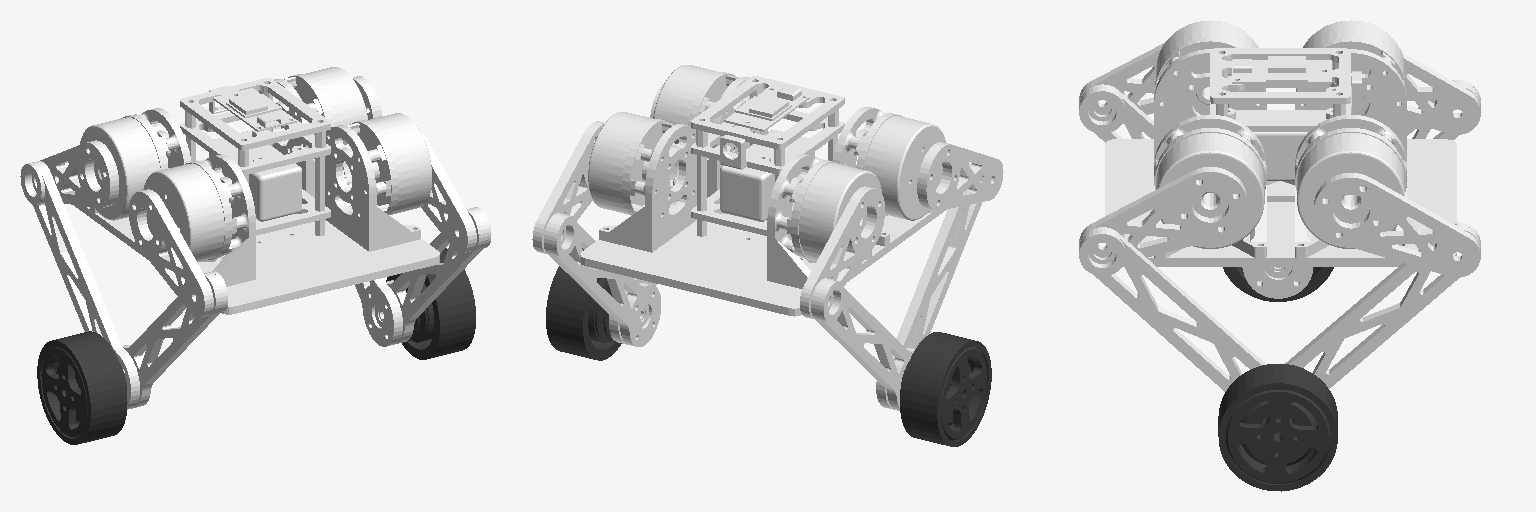
The robot description file, URDF, robot "Shuangzulun":
<?xml version="1.0" encoding="utf-8"?>
<!-- This URDF was automatically created by SolidWorks to URDF Exporter! Originally created by [author] ([email redacted]) 
     Commit Version: 1.6.0-4-g7f85cfe  Build Version: 1.6.7995.38578
     For more information, please see http://wiki.ros.org/sw_urdf_exporter -->
<robot
  name="Shuangzulun">
  <link
    name="base_link">
    <inertial>
      <origin
        xyz="-2.06685949717221E-06 0.0242691055965516 -3.19511749374861E-05"
        rpy="0 0 0" />
      <mass
        value="0.356780480322963" />
      <inertia
        ixx="0.00022945772142675"
        ixy="1.56227645579509E-09"
        ixz="1.10758177428464E-09"
        iyy="0.000289967073130902"
        iyz="5.54970300017836E-08"
        izz="0.000140635927790269" />
    </inertial>
    <visual>
      <origin
        xyz="0 0 0"
        rpy="0 0 0" />
      <geometry>
        <mesh
          filename="package://Shuangzulun/meshes/base_link.STL" />
      </geometry>
      <material
        name="">
        <color
          rgba="1 1 1 1" />
      </material>
    </visual>
    <collision>
      <origin
        xyz="0 0 0"
        rpy="0 0 0" />
      <geometry>
        <mesh
          filename="package://Shuangzulun/meshes/base_link.STL" />
      </geometry>
    </collision>
  </link>
  <link
    name="L_F_1">
    <inertial>
      <origin
        xyz="0.0200809690208486 0.00243813211080819 1.11022302462516E-16"
        rpy="0 0 0" />
      <mass
        value="0.0103010381319344" />
      <inertia
        ixx="7.46635077822692E-07"
        ixy="1.9067502731996E-08"
        ixz="4.76456032830544E-22"
        iyy="5.01527868596811E-06"
        iyz="1.24077091882954E-23"
        izz="4.31106087412847E-06" />
    </inertial>
    <visual>
      <origin
        xyz="0 0 0"
        rpy="0 0 0" />
      <geometry>
        <mesh
          filename="package://Shuangzulun/meshes/L_F_1.STL" />
      </geometry>
      <material
        name="">
        <color
          rgba="1 1 1 1" />
      </material>
    </visual>
    <collision>
      <origin
        xyz="0 0 0"
        rpy="0 0 0" />
      <geometry>
        <mesh
          filename="package://Shuangzulun/meshes/L_F_1.STL" />
      </geometry>
    </collision>
  </link>
  <joint
    name="L_F_1"
    type="continuous">
    <origin
      xyz="0.0665 -0.03 0.034"
      rpy="0 0.40283 -1.5708" />
    <parent
      link="base_link" />
    <child
      link="L_F_1" />
    <axis
      xyz="0 1 0" />
  </joint>
  <link
    name="L_F_2">
    <inertial>
      <origin
        xyz="0.0579756907615433 -0.00265632955087471 -1.1647088906247E-06"
        rpy="0 0 0" />
      <mass
        value="0.0152703665823153" />
      <inertia
        ixx="7.683764954588E-07"
        ixy="1.42961184690718E-08"
        ixz="1.17880192616912E-08"
        iyy="2.01064464712028E-05"
        iyz="4.16136337112369E-13"
        izz="1.94031525718367E-05" />
    </inertial>
    <visual>
      <origin
        xyz="0 0 0"
        rpy="0 0 0" />
      <geometry>
        <mesh
          filename="package://Shuangzulun/meshes/L_F_2.STL" />
      </geometry>
      <material
        name="">
        <color
          rgba="1 1 1 1" />
      </material>
    </visual>
    <collision>
      <origin
        xyz="0 0 0"
        rpy="0 0 0" />
      <geometry>
        <mesh
          filename="package://Shuangzulun/meshes/L_F_2.STL" />
      </geometry>
    </collision>
  </link>
  <joint
    name="L_F_2"
    type="continuous">
    <origin
      xyz="0.05 0.006 0"
      rpy="0 1.1791 3.1416" />
    <parent
      link="L_F_1" />
    <child
      link="L_F_2" />
    <axis
      xyz="0 1 0" />
  </joint>
  <link
    name="L_F_lun">
    <inertial>
      <origin
        xyz="-9.26299902122285E-06 0.0168802665650716 -1.04684400798541E-05"
        rpy="0 0 0" />
      <mass
        value="0.0382346146678116" />
      <inertia
        ixx="7.29689988825768E-06"
        ixy="-4.01191417658799E-10"
        ixz="-2.14386273828961E-09"
        iyy="1.22053148780522E-05"
        iyz="-4.53400492262894E-10"
        izz="7.29648214132153E-06" />
    </inertial>
    <visual>
      <origin
        xyz="0 0 0"
        rpy="0 0 0" />
      <geometry>
        <mesh
          filename="package://Shuangzulun/meshes/L_F_lun.STL" />
      </geometry>
      <material
        name="">
        <color
          rgba="0.298039215686275 0.298039215686275 0.298039215686275 1" />
      </material>
    </visual>
    <collision>
      <origin
        xyz="0 0 0"
        rpy="0 0 0" />
      <geometry>
        <mesh
          filename="package://Shuangzulun/meshes/L_F_lun.STL" />
      </geometry>
    </collision>
  </link>
  <joint
    name="L_F_lun"
    type="continuous">
    <origin
      xyz="0.105 -0.0055 0"
      rpy="0 0.18199 3.1416" />
    <parent
      link="L_F_2" />
    <child
      link="L_F_lun" />
    <axis
      xyz="0 1 0" />
  </joint>
  <link
    name="L_H_1">
    <inertial>
      <origin
        xyz="0.0200809690208485 -0.00256186788919183 9.71445146547012E-17"
        rpy="0 0 0" />
      <mass
        value="0.0103010381319344" />
      <inertia
        ixx="7.46635077822692E-07"
        ixy="1.90675027319959E-08"
        ixz="4.2351647362715E-22"
        iyy="5.01527868596811E-06"
        iyz="-5.79026428787119E-23"
        izz="4.31106087412847E-06" />
    </inertial>
    <visual>
      <origin
        xyz="0 0 0"
        rpy="0 0 0" />
      <geometry>
        <mesh
          filename="package://Shuangzulun/meshes/L_H_1.STL" />
      </geometry>
      <material
        name="">
        <color
          rgba="1 1 1 1" />
      </material>
    </visual>
    <collision>
      <origin
        xyz="0 0 0"
        rpy="0 0 0" />
      <geometry>
        <mesh
          filename="package://Shuangzulun/meshes/L_H_1.STL" />
      </geometry>
    </collision>
  </link>
  <joint
    name="L_H_1"
    type="continuous">
    <origin
      xyz="0.0725 0.03 0.034"
      rpy="0 0.4364 1.5708" />
    <parent
      link="base_link" />
    <child
      link="L_H_1" />
    <axis
      xyz="0 1 0" />
  </joint>
  <link
    name="L_H_2">
    <inertial>
      <origin
        xyz="0.0579756907615436 -0.00265632955087469 -1.16470889147818E-06"
        rpy="0 0 0" />
      <mass
        value="0.0152703665823153" />
      <inertia
        ixx="7.68376495458806E-07"
        ixy="1.42961184690763E-08"
        ixz="1.17880192616836E-08"
        iyy="2.01064464712029E-05"
        iyz="4.16136337023104E-13"
        izz="1.94031525718368E-05" />
    </inertial>
    <visual>
      <origin
        xyz="0 0 0"
        rpy="0 0 0" />
      <geometry>
        <mesh
          filename="package://Shuangzulun/meshes/L_H_2.STL" />
      </geometry>
      <material
        name="">
        <color
          rgba="1 1 1 1" />
      </material>
    </visual>
    <collision>
      <origin
        xyz="0 0 0"
        rpy="0 0 0" />
      <geometry>
        <mesh
          filename="package://Shuangzulun/meshes/L_H_2.STL" />
      </geometry>
    </collision>
  </link>
  <joint
    name="L_H_2"
    type="continuous">
    <origin
      xyz="0.05 0.001 0"
      rpy="0 1.1924 3.1416" />
    <parent
      link="L_H_1" />
    <child
      link="L_H_2" />
    <axis
      xyz="0 1 0" />
  </joint>
  <link
    name="L_H_lun">
    <inertial>
      <origin
        xyz="-0.0322462055063696 0.0948802665650716 -0.049638367129516"
        rpy="0 0 0" />
      <mass
        value="0.0382346146678116" />
      <inertia
        ixx="7.29689988825768E-06"
        ixy="-4.01191417658811E-10"
        ixz="-2.14386273828834E-09"
        iyy="1.22053148780522E-05"
        iyz="-4.53400492262732E-10"
        izz="7.29648214132153E-06" />
    </inertial>
    <visual>
      <origin
        xyz="0 0 0"
        rpy="0 0 0" />
      <geometry>
        <mesh
          filename="package://Shuangzulun/meshes/L_H_lun.STL" />
      </geometry>
      <material
        name="">
        <color
          rgba="0.298039215686275 0.298039215686275 0.298039215686275 1" />
      </material>
    </visual>
    <collision>
      <origin
        xyz="0 0 0"
        rpy="0 0 0" />
      <geometry>
        <mesh
          filename="package://Shuangzulun/meshes/L_H_lun.STL" />
      </geometry>
    </collision>
  </link>
  <joint
    name="L_H_lun"
    type="continuous">
    <origin
      xyz="0.063622 -0.0715 0.042308"
      rpy="0 -1.3504 0" />
    <parent
      link="L_H_2" />
    <child
      link="L_H_lun" />
    <axis
      xyz="0 1 0" />
  </joint>
  <link
    name="R_F_1">
    <inertial>
      <origin
        xyz="0.020080969020849 -0.00256186788919183 -6.24500451351651E-17"
        rpy="0 0 0" />
      <mass
        value="0.0103010381319344" />
      <inertia
        ixx="7.4663507782269E-07"
        ixy="1.9067502731996E-08"
        ixz="-6.88214269644119E-22"
        iyy="5.0152786859681E-06"
        iyz="-4.3802960298815E-22"
        izz="4.31106087412846E-06" />
    </inertial>
    <visual>
      <origin
        xyz="0 0 0"
        rpy="0 0 0" />
      <geometry>
        <mesh
          filename="package://Shuangzulun/meshes/R_F_1.STL" />
      </geometry>
      <material
        name="">
        <color
          rgba="1 1 1 1" />
      </material>
    </visual>
    <collision>
      <origin
        xyz="0 0 0"
        rpy="0 0 0" />
      <geometry>
        <mesh
          filename="package://Shuangzulun/meshes/R_F_1.STL" />
      </geometry>
    </collision>
  </link>
  <joint
    name="R_F_1"
    type="continuous">
    <origin
      xyz="-0.0725 -0.03 0.034"
      rpy="0 0.40283 -1.5708" />
    <parent
      link="base_link" />
    <child
      link="R_F_1" />
    <axis
      xyz="0 1 0" />
  </joint>
  <link
    name="R_F_2">
    <inertial>
      <origin
        xyz="0.0579756907615439 -0.00265632955087471 -1.16470889158227E-06"
        rpy="0 0 0" />
      <mass
        value="0.0152703665823153" />
      <inertia
        ixx="7.68376495458802E-07"
        ixy="1.42961184690755E-08"
        ixz="1.17880192616758E-08"
        iyy="2.01064464712029E-05"
        iyz="4.16136337061911E-13"
        izz="1.94031525718368E-05" />
    </inertial>
    <visual>
      <origin
        xyz="0 0 0"
        rpy="0 0 0" />
      <geometry>
        <mesh
          filename="package://Shuangzulun/meshes/R_F_2.STL" />
      </geometry>
      <material
        name="">
        <color
          rgba="1 1 1 1" />
      </material>
    </visual>
    <collision>
      <origin
        xyz="0 0 0"
        rpy="0 0 0" />
      <geometry>
        <mesh
          filename="package://Shuangzulun/meshes/R_F_2.STL" />
      </geometry>
    </collision>
  </link>
  <joint
    name="R_F_2"
    type="continuous">
    <origin
      xyz="0.05 0.001 0"
      rpy="0 1.1791 -3.1416" />
    <parent
      link="R_F_1" />
    <child
      link="R_F_2" />
    <axis
      xyz="0 1 0" />
  </joint>
  <link
    name="R_F_lun">
    <inertial>
      <origin
        xyz="1.66708806209094E-06 -0.0168802665650715 1.3878479958325E-05"
        rpy="0 0 0" />
      <mass
        value="0.0382346146678116" />
      <inertia
        ixx="7.29879580972196E-06"
        ixy="-7.22035508470689E-11"
        ixz="-4.57836061297952E-10"
        iyy="1.22053148780522E-05"
        iyz="-6.01093343182156E-10"
        izz="7.29458621985725E-06" />
    </inertial>
    <visual>
      <origin
        xyz="0 0 0"
        rpy="0 0 0" />
      <geometry>
        <mesh
          filename="package://Shuangzulun/meshes/R_F_lun.STL" />
      </geometry>
      <material
        name="">
        <color
          rgba="0.298039215686275 0.298039215686275 0.298039215686275 1" />
      </material>
    </visual>
    <collision>
      <origin
        xyz="0 0 0"
        rpy="0 0 0" />
      <geometry>
        <mesh
          filename="package://Shuangzulun/meshes/R_F_lun.STL" />
      </geometry>
    </collision>
  </link>
  <joint
    name="R_F_lun"
    type="continuous">
    <origin
      xyz="0.105 0.0065 0"
      rpy="3.1416 -0.50643 0" />
    <parent
      link="R_F_2" />
    <child
      link="R_F_lun" />
    <axis
      xyz="0 1 0" />
  </joint>
  <link
    name="R_H_1">
    <inertial>
      <origin
        xyz="0.0200809690208488 0.00243813211080819 1.38777878078145E-17"
        rpy="0 0 0" />
      <mass
        value="0.0103010381319344" />
      <inertia
        ixx="7.46635077822691E-07"
        ixy="1.9067502731996E-08"
        ixz="1.85288457211878E-22"
        iyy="5.0152786859681E-06"
        iyz="9.17418000394433E-23"
        izz="4.31106087412846E-06" />
    </inertial>
    <visual>
      <origin
        xyz="0 0 0"
        rpy="0 0 0" />
      <geometry>
        <mesh
          filename="package://Shuangzulun/meshes/R_H_1.STL" />
      </geometry>
      <material
        name="">
        <color
          rgba="1 1 1 1" />
      </material>
    </visual>
    <collision>
      <origin
        xyz="0 0 0"
        rpy="0 0 0" />
      <geometry>
        <mesh
          filename="package://Shuangzulun/meshes/R_H_1.STL" />
      </geometry>
    </collision>
  </link>
  <joint
    name="R_H_1"
    type="continuous">
    <origin
      xyz="-0.0665 0.03 0.034"
      rpy="0 0.4364 1.5708" />
    <parent
      link="base_link" />
    <child
      link="R_H_1" />
    <axis
      xyz="0 1 0" />
  </joint>
  <link
    name="R_H_2">
    <inertial>
      <origin
        xyz="0.0579756907615446 -0.00265632955087525 -1.16470889280351E-06"
        rpy="0 0 0" />
      <mass
        value="0.0152703665823153" />
      <inertia
        ixx="7.68376495458805E-07"
        ixy="1.4296118469073E-08"
        ixz="1.17880192616807E-08"
        iyy="2.01064464712029E-05"
        iyz="4.16136337057775E-13"
        izz="1.94031525718368E-05" />
    </inertial>
    <visual>
      <origin
        xyz="0 0 0"
        rpy="0 0 0" />
      <geometry>
        <mesh
          filename="package://Shuangzulun/meshes/R_H_2.STL" />
      </geometry>
      <material
        name="">
        <color
          rgba="1 1 1 1" />
      </material>
    </visual>
    <collision>
      <origin
        xyz="0 0 0"
        rpy="0 0 0" />
      <geometry>
        <mesh
          filename="package://Shuangzulun/meshes/R_H_2.STL" />
      </geometry>
    </collision>
  </link>
  <joint
    name="R_H_2"
    type="continuous">
    <origin
      xyz="0.05 0.006 0"
      rpy="0 1.1924 3.1416" />
    <parent
      link="R_H_1" />
    <child
      link="R_H_2" />
    <axis
      xyz="0 1 0" />
  </joint>
  <link
    name="R_H_lun">
    <inertial>
      <origin
        xyz="0.0147362939084086 -0.0948802665650717 0.0573291431396988"
        rpy="0 0 0" />
      <mass
        value="0.0382346146678116" />
      <inertia
        ixx="7.29879580972196E-06"
        ixy="-7.22035508470371E-11"
        ixz="-4.57836061297634E-10"
        iyy="1.22053148780522E-05"
        iyz="-6.01093343182056E-10"
        izz="7.29458621985725E-06" />
    </inertial>
    <visual>
      <origin
        xyz="0 0 0"
        rpy="0 0 0" />
      <geometry>
        <mesh
          filename="package://Shuangzulun/meshes/R_H_lun.STL" />
      </geometry>
      <material
        name="">
        <color
          rgba="0.298039215686275 0.298039215686275 0.298039215686275 1" />
      </material>
    </visual>
    <collision>
      <origin
        xyz="0 0 0"
        rpy="0 0 0" />
      <geometry>
        <mesh
          filename="package://Shuangzulun/meshes/R_H_lun.STL" />
      </geometry>
    </collision>
  </link>
  <joint
    name="R_H_lun"
    type="continuous">
    <origin
      xyz="0.063622 0.0725 0.042308"
      rpy="3.1416 1.0259 3.1416" />
    <parent
      link="R_H_2" />
    <child
      link="R_H_lun" />
    <axis
      xyz="0 1 0" />
  </joint>
</robot>

--- Facts derived from the render (not from the file) ---
The picture shows the robot from 3 angles, left to right: view 1: azimuth 30°, elevation 25°; view 2: azimuth 150°, elevation 25°; view 3: azimuth 270°, elevation 25°; orthographic projection.
Robot: Shuangzulun — 13 links, 12 joints (12 continuous); root link base_link; default pose: every joint at zero.
Links seen in each view (by area): view 1: base_link, R_H_lun, R_H_2, R_F_1, R_F_2, L_F_2, R_H_1, L_H_lun, L_F_1, L_H_2, R_F_lun, L_F_lun (+1 smaller); view 2: base_link, R_F_lun, L_H_2, R_H_2, R_F_2, R_F_1, L_F_lun, R_H_1, L_H_1, R_H_lun; view 3: base_link, L_H_lun, L_H_1, L_F_2, L_F_1, L_H_2, R_F_2, R_H_1, R_F_1, L_F_lun, R_H_2, R_F_lun (+1 smaller).
Boxes of the visible links, x1,y1,x2,y2 form: base_link: [74, 67, 439, 314]; R_H_lun: [37, 333, 127, 443]; R_H_2: [20, 161, 139, 409]; R_F_1: [129, 189, 213, 317]; R_F_2: [123, 271, 227, 407]; L_F_2: [382, 207, 491, 343]; R_H_1: [40, 140, 118, 207]; L_H_lun: [393, 248, 475, 359]; L_F_1: [419, 129, 476, 253]; L_H_2: [355, 278, 402, 346]; R_F_lun: [45, 331, 96, 444]; L_F_lun: [386, 248, 445, 359]; base_link: [580, 65, 945, 316]; R_F_lun: [900, 338, 991, 445]; L_H_2: [544, 213, 660, 346]; R_H_2: [811, 278, 914, 410]; R_F_2: [876, 162, 981, 409]; R_F_1: [917, 142, 1003, 210]; L_F_lun: [546, 254, 621, 360]; R_H_1: [800, 186, 884, 318]; L_H_1: [532, 121, 604, 253]; R_H_lun: [925, 332, 985, 446]; base_link: [1105, 20, 1456, 266]; L_H_lun: [1218, 364, 1337, 491]; L_H_1: [1314, 173, 1480, 277]; L_F_2: [1079, 227, 1266, 391]; L_F_1: [1079, 167, 1247, 257]; L_H_2: [1285, 222, 1480, 388]; R_F_2: [1079, 84, 1312, 298]; R_H_1: [1402, 53, 1480, 134]; R_F_1: [1079, 43, 1164, 114]; L_F_lun: [1226, 364, 1337, 484]; R_H_2: [1258, 80, 1480, 281]; R_F_lun: [1235, 267, 1333, 301].
Size in the robot's own frame: 0.211 by 0.1713 by 0.1516 metres.
13 mesh visuals loaded from 13 distinct referenced files (13 binary STL).
